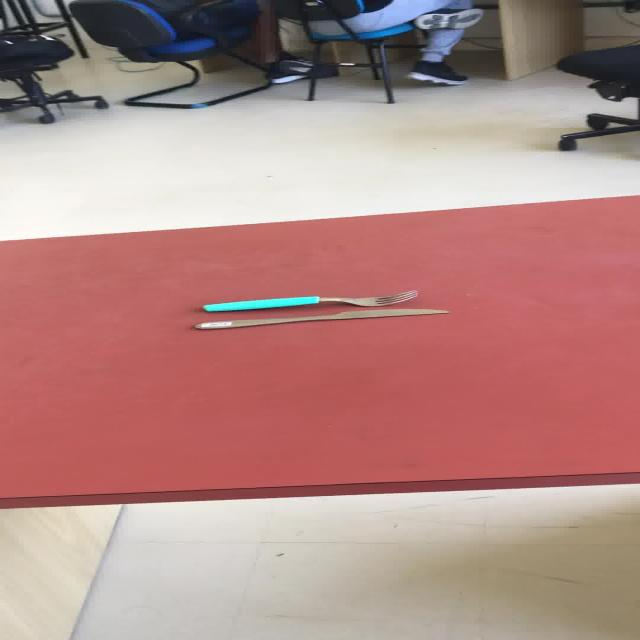fork: (200, 289, 418, 312)
knife fork: (191, 307, 450, 330)
